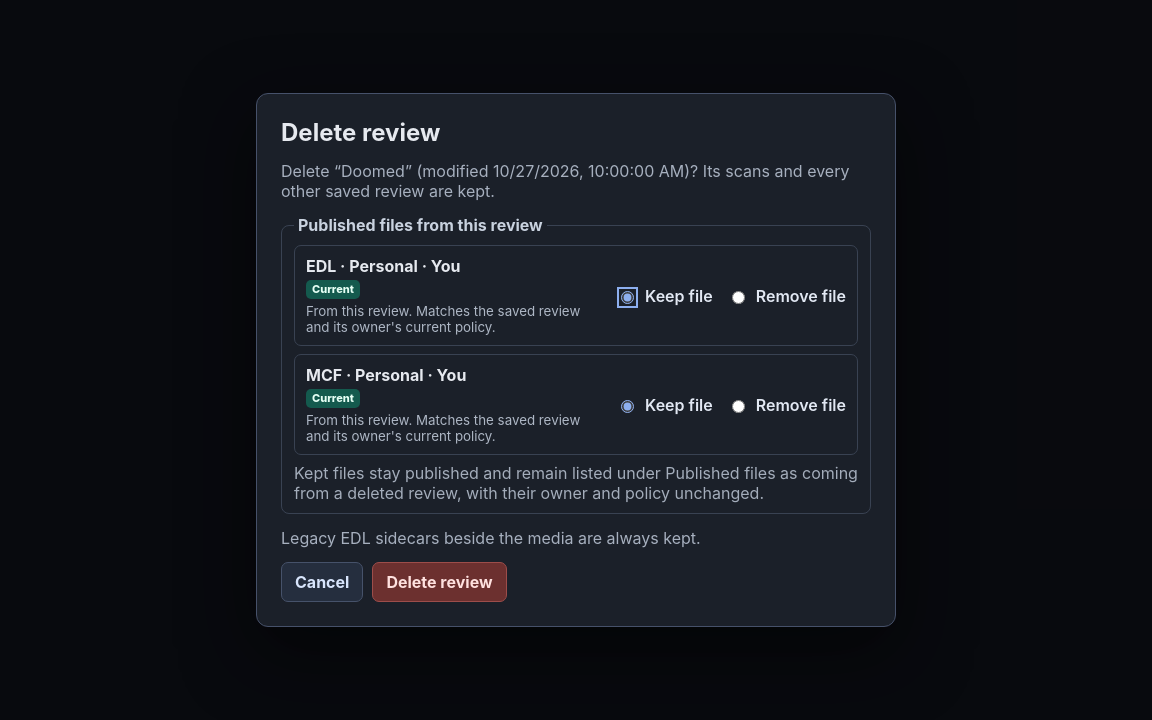
ignores an older preview that arrives after the user chose, keeping the choice and the newest confirmation
Later steps or results of the test are not shown.
Click the 2nd radio button labelled "Remove file".
click(738, 406)  # box [732,400,745,412]
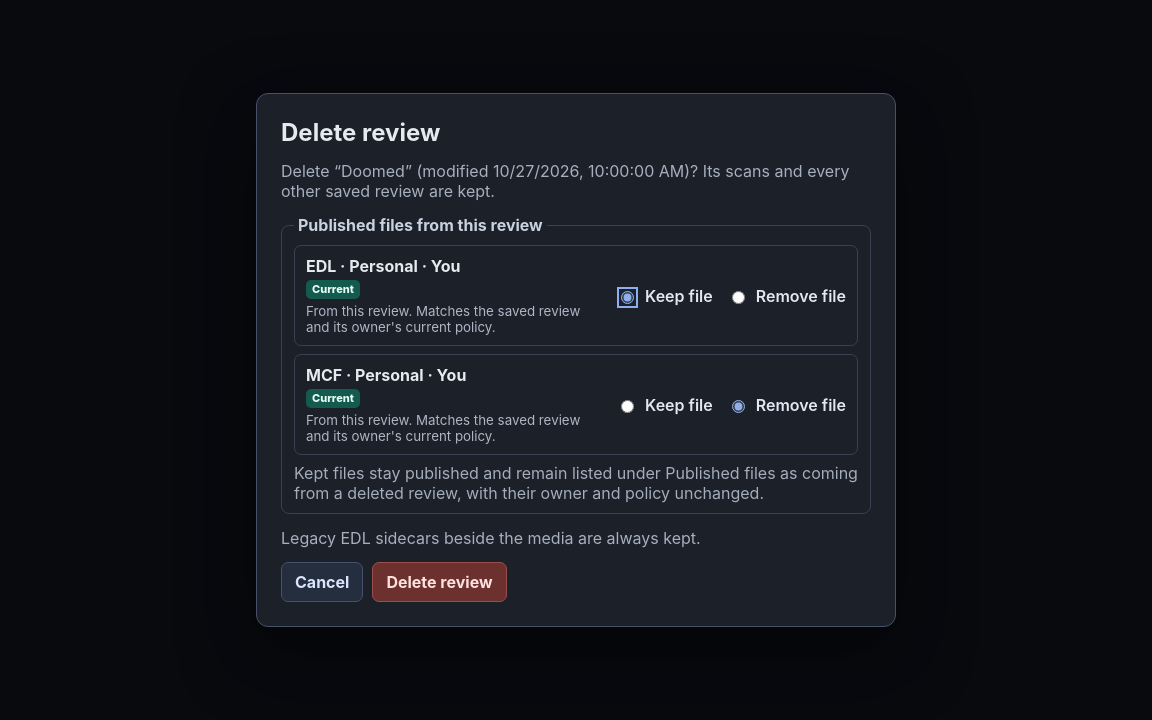
Expected: the 2nd radio button labelled "Remove file" is checked, [732,400,745,412]
